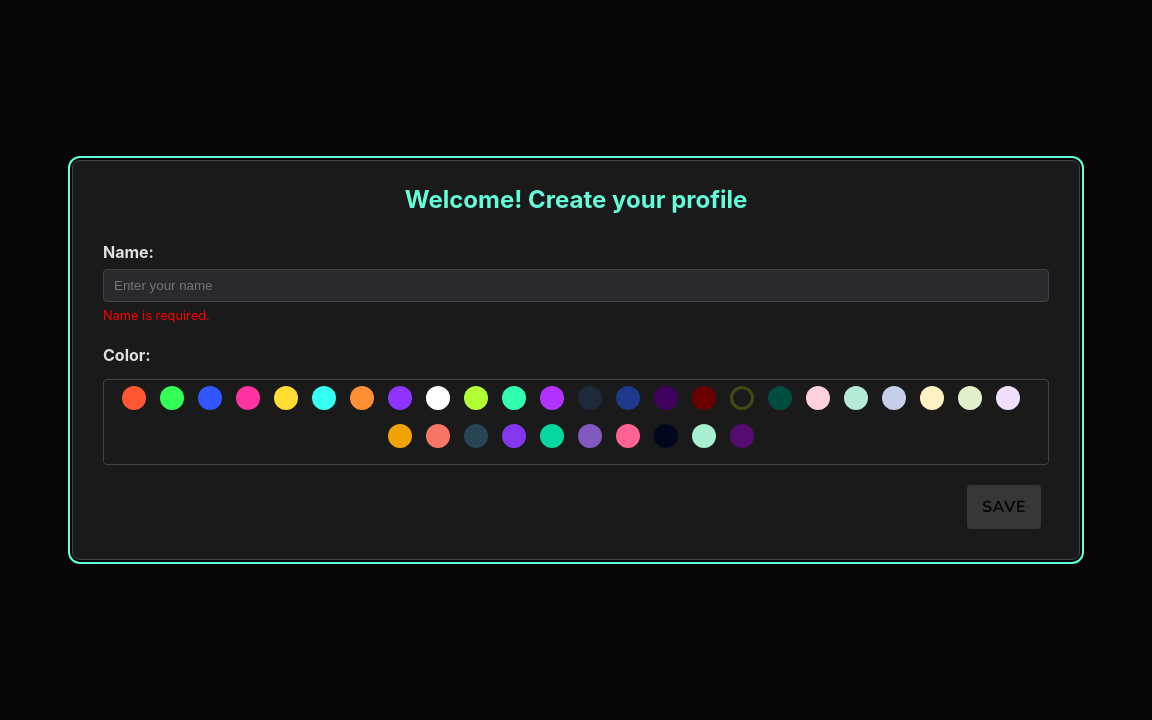
Test: <ProfileModal /> › updates name state on input change
The width and height of the screenshot is (1152, 720).
Type "New Player" into the field labelled "Name:" at {"x": 576, "y": 286}, box [103,270,1049,302]
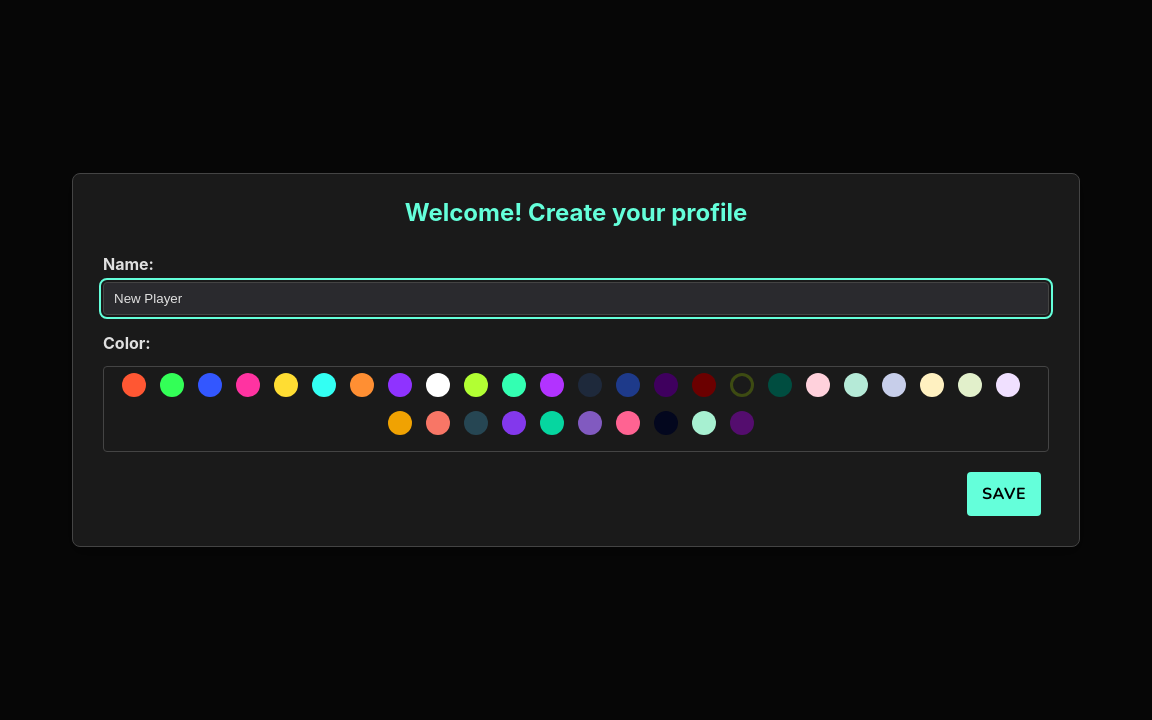
Expected: the button "Save" is enabled, [967,472,1041,516]
